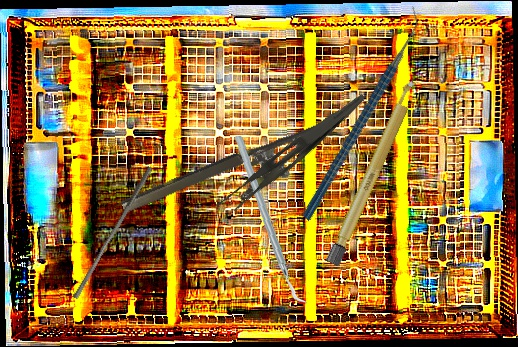Chopper: (245, 4, 475, 222), (223, 135, 319, 306)
Dressing Forceps: (213, 78, 368, 225)
Needle Holder: (119, 112, 354, 243)
Pusher: (72, 163, 153, 302)
Scalpel Handle: (325, 76, 422, 268)
